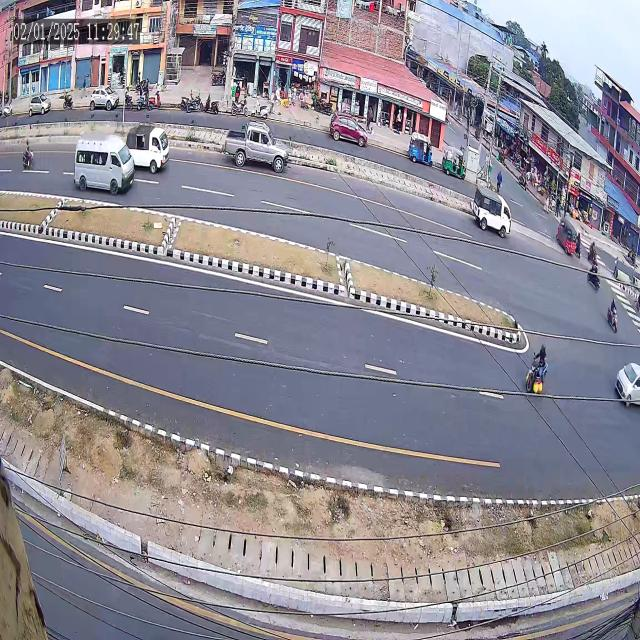motorcycle: (508, 318, 558, 407), (16, 131, 40, 178), (604, 289, 624, 336)
